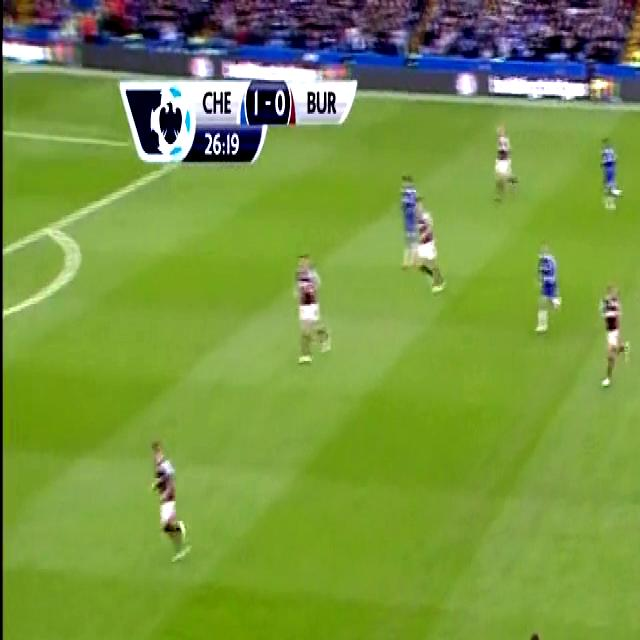soccer-player: (143, 426, 194, 570), (284, 241, 337, 376), (395, 173, 437, 292), (592, 267, 630, 398), (408, 198, 449, 302), (530, 233, 566, 345), (484, 109, 521, 205), (595, 127, 625, 220), (513, 618, 563, 640)
